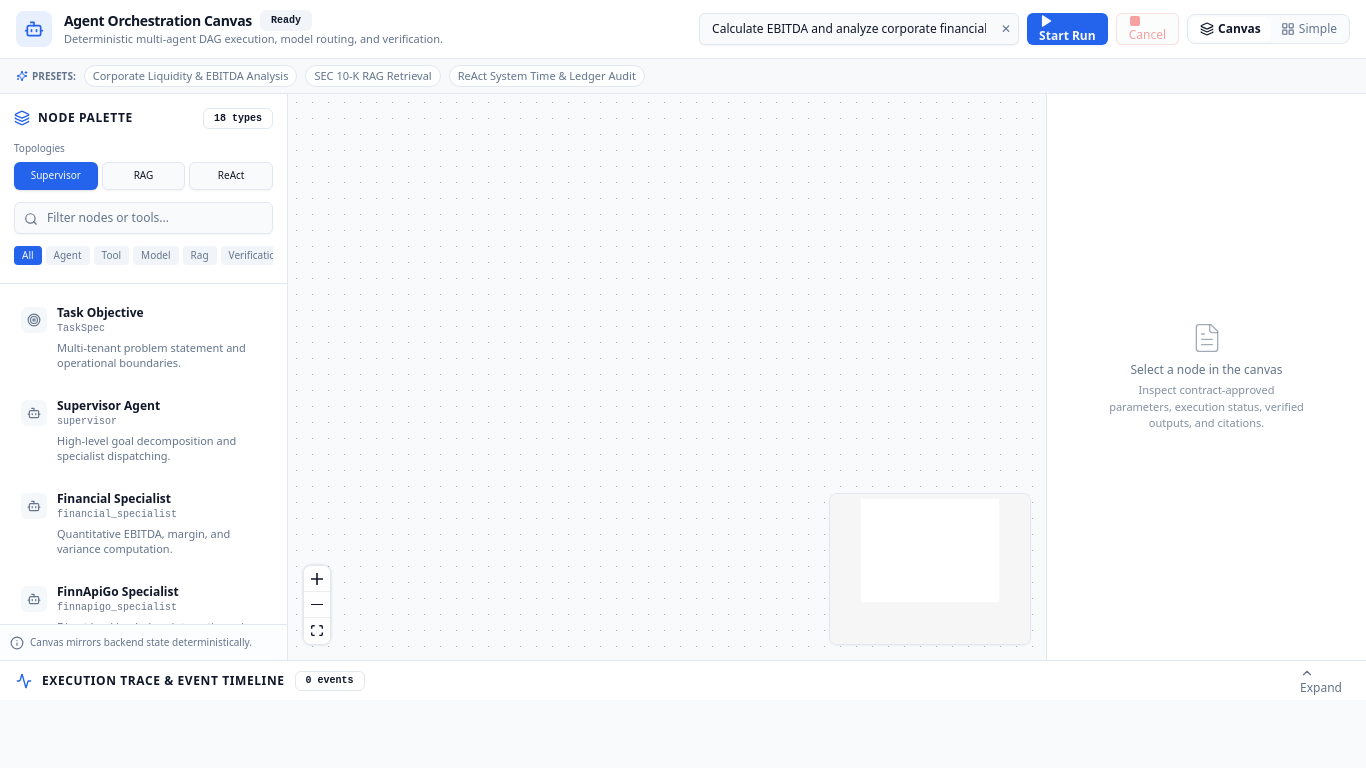
it: Agent Execution SSE Stream Integration › handles execution failure event and displays error gracefully
What coordinates should you click on to do the following:
click the button with test id "start-run-button"
I would click on:
 (1067, 29)
Its box is [1027,13,1108,45].
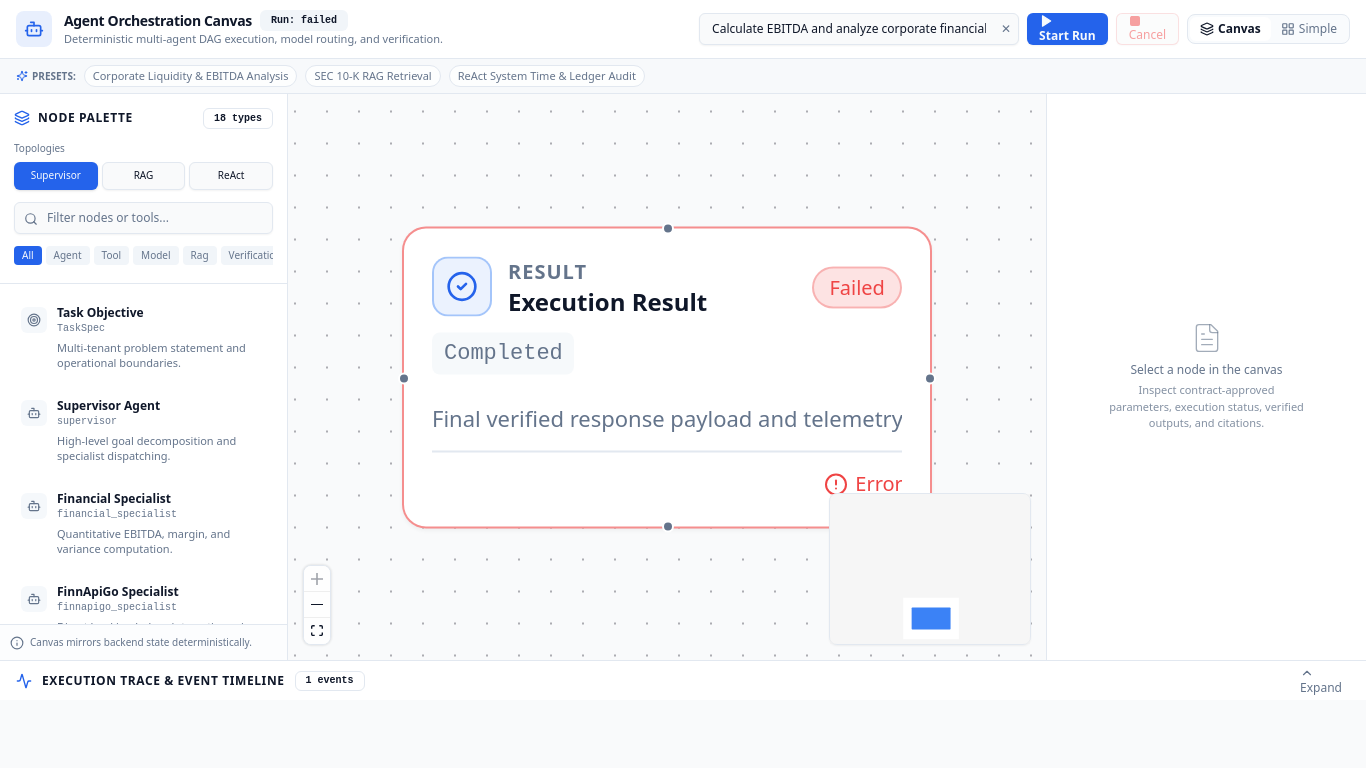
Check: the text "Run: failed" is shown, box [260,10,348,31]
